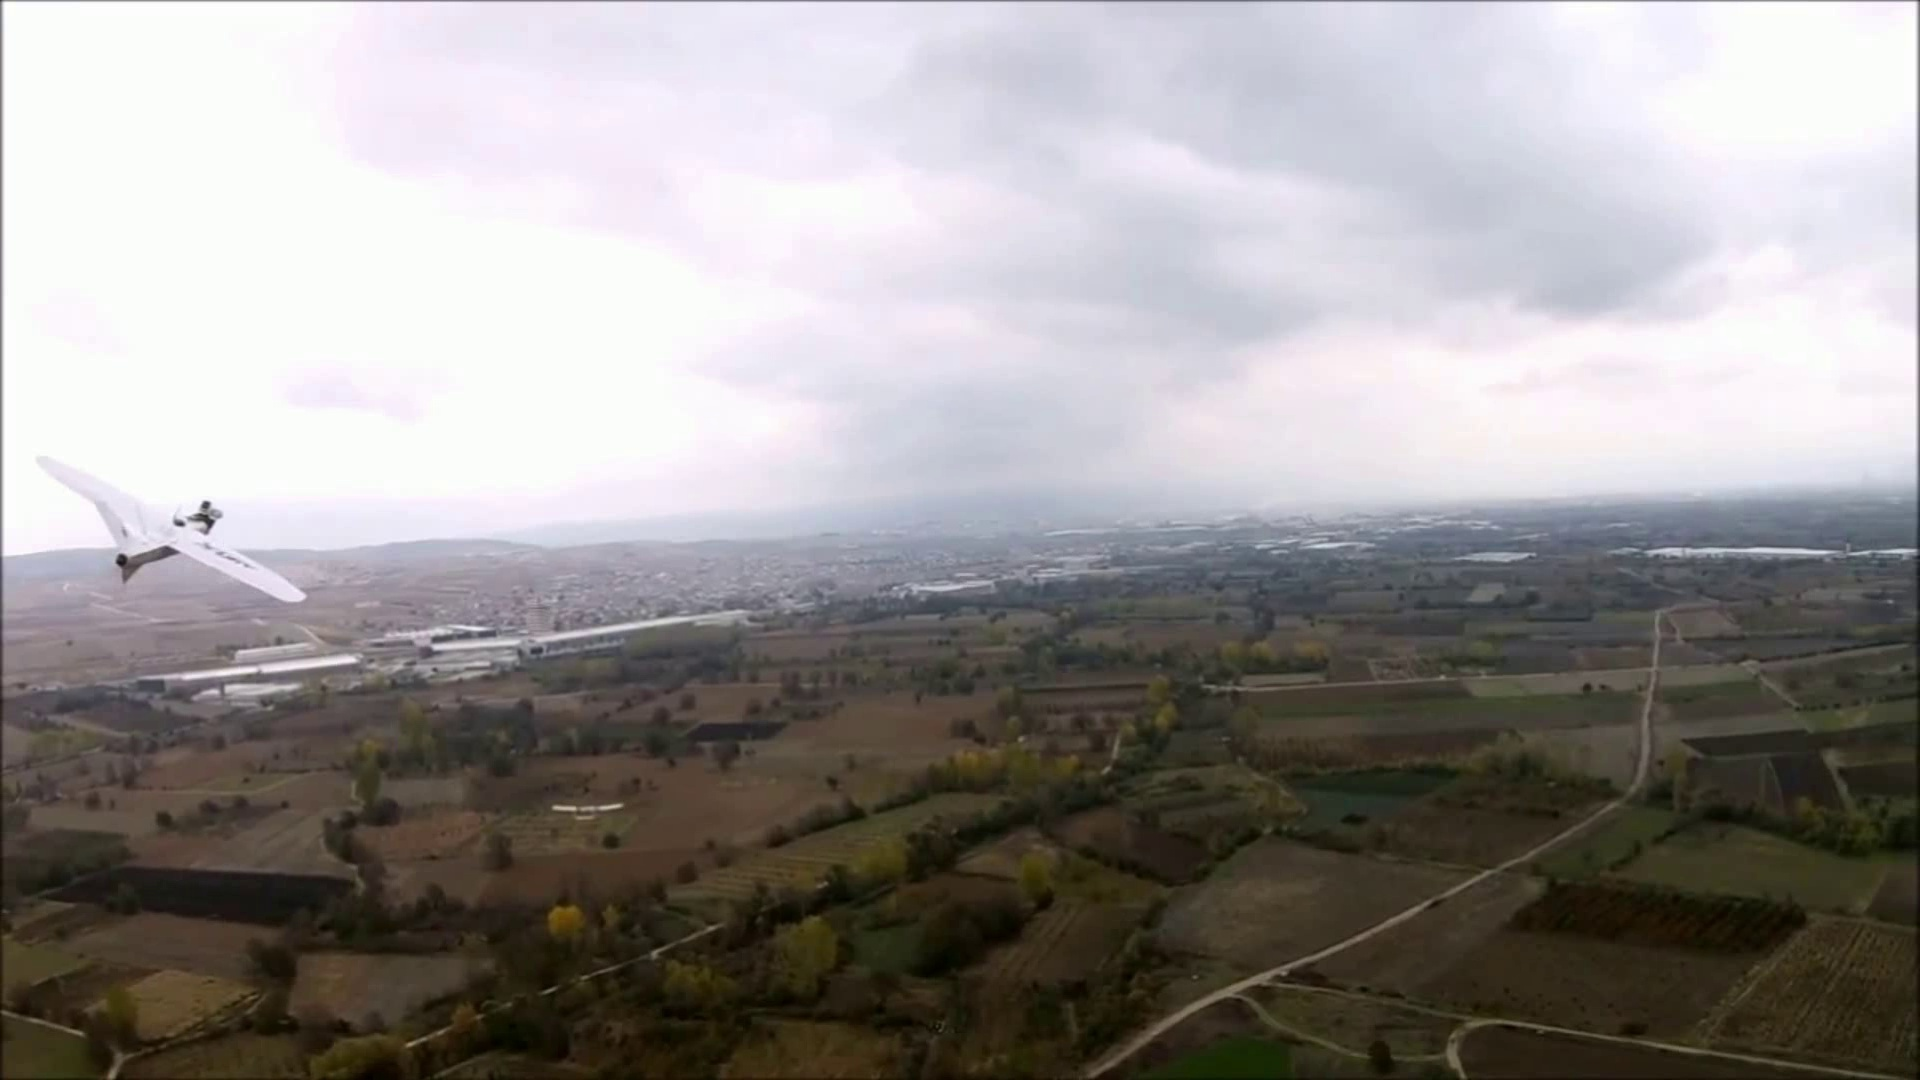airplane: (34, 458, 309, 607)
